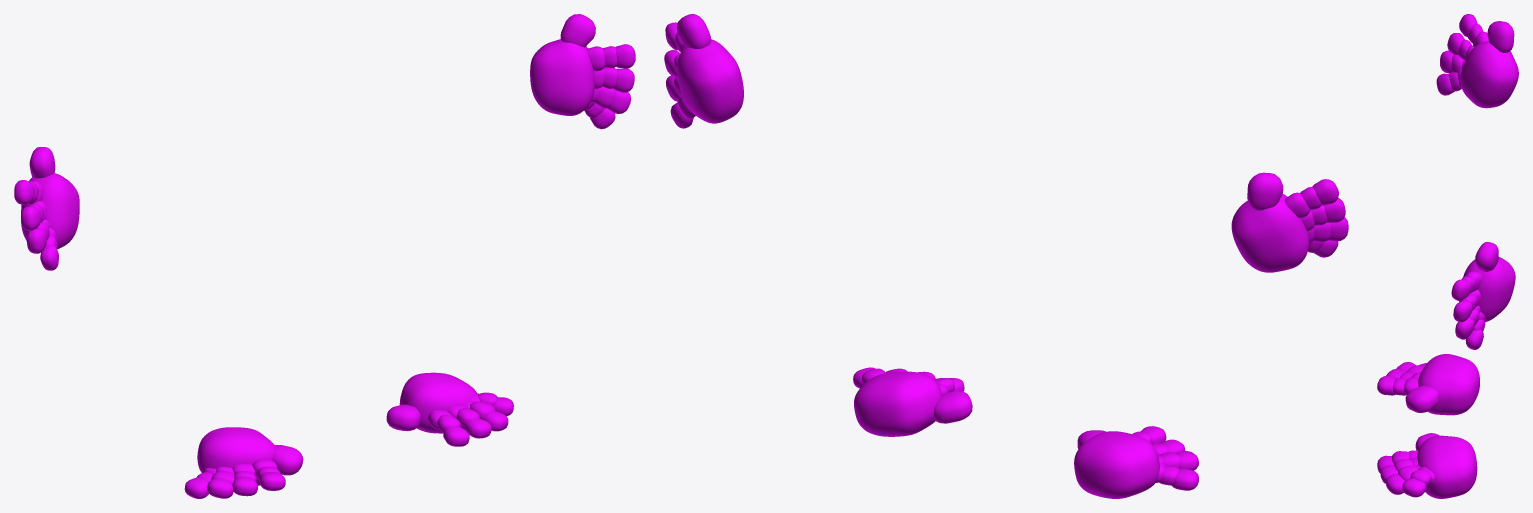
File: zone5-singe-purple.gltf
3 views of the same model, side by side, from view 1: azimuth 30°, elevation 25°; view 2: azimuth 150°, elevation 25°; view 3: azimuth 270°, elevation 25° (orthographic). The views are drawn at different scales.
Visible parts, largest first — view 1: Pieds et main; view 2: Pieds et main; view 3: Pieds et main.
Part boxes in pixels (left/top/right/bottom): Pieds et main: left=14, top=14, right=635, bottom=498; Pieds et main: left=664, top=14, right=1348, bottom=498; Pieds et main: left=1377, top=14, right=1518, bottom=498.
Size of the model in its own units: 5.45 by 3.07 by 1.22.
